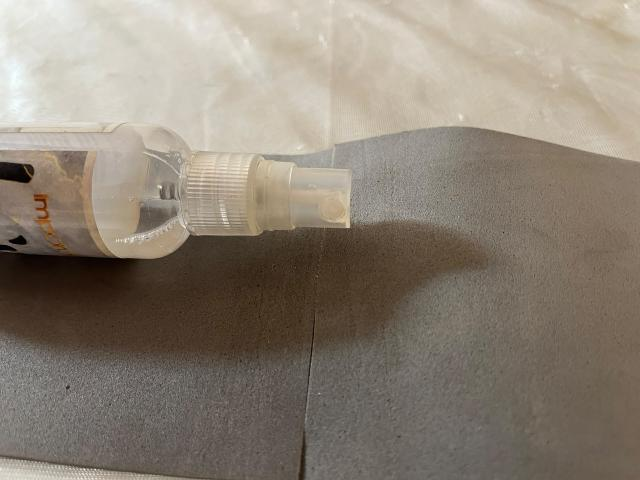PET: (0, 99, 386, 281)
